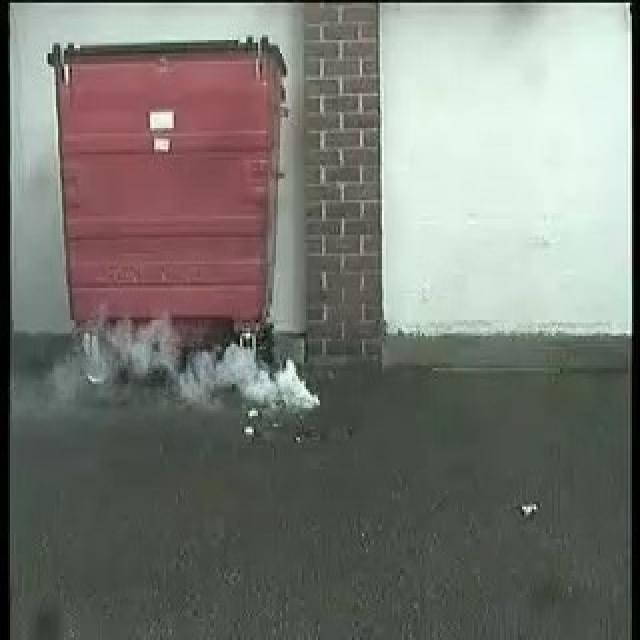smoke: (85, 307, 319, 411)
